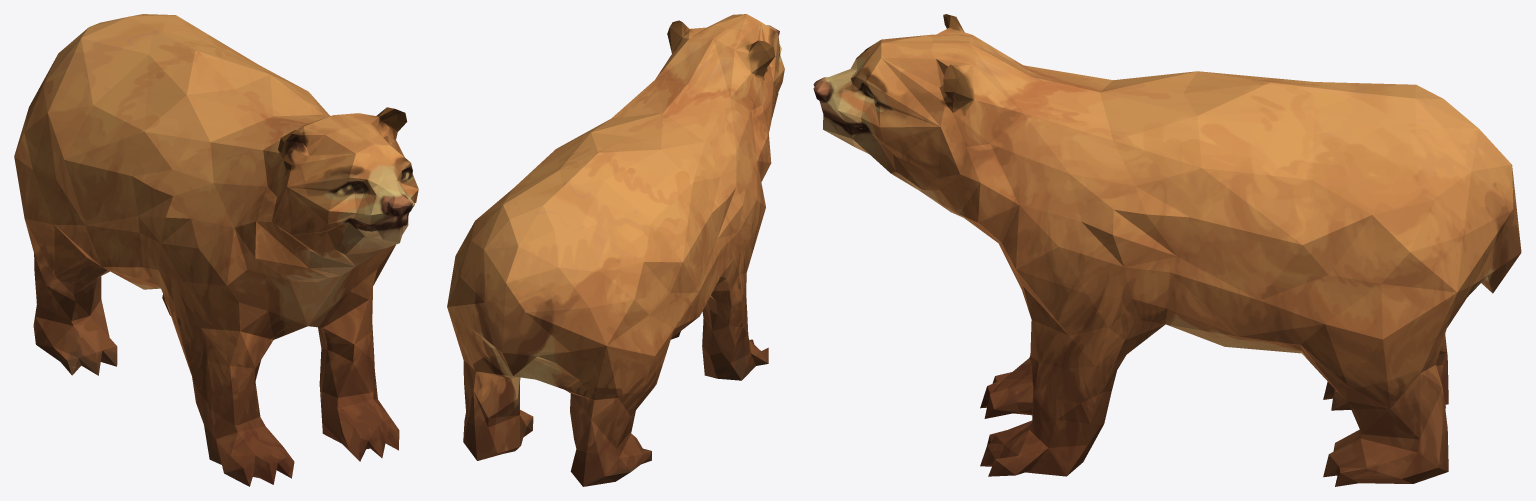
File: MamaBear.FBX
3 renders of one model, left to right at view 1: azimuth 30°, elevation 25°; view 2: azimuth 150°, elevation 25°; view 3: azimuth 270°, elevation 25°, orthographic. The views are drawn at different scales.
Parts seen in each view (by area): view 1: MamaBear; view 2: MamaBear; view 3: MamaBear.
Part boxes in pixels (x1=…): MamaBear: x1=14, y1=14, x2=418, y2=486; MamaBear: x1=447, y1=14, x2=784, y2=486; MamaBear: x1=813, y1=14, x2=1521, y2=486.
Bounding box in the file's own units: 110 × 160 × 257.
